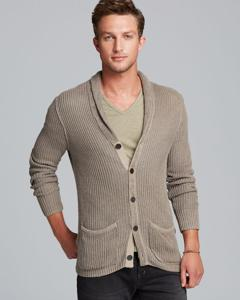C_cardigan sweater: (24, 77, 218, 277)
